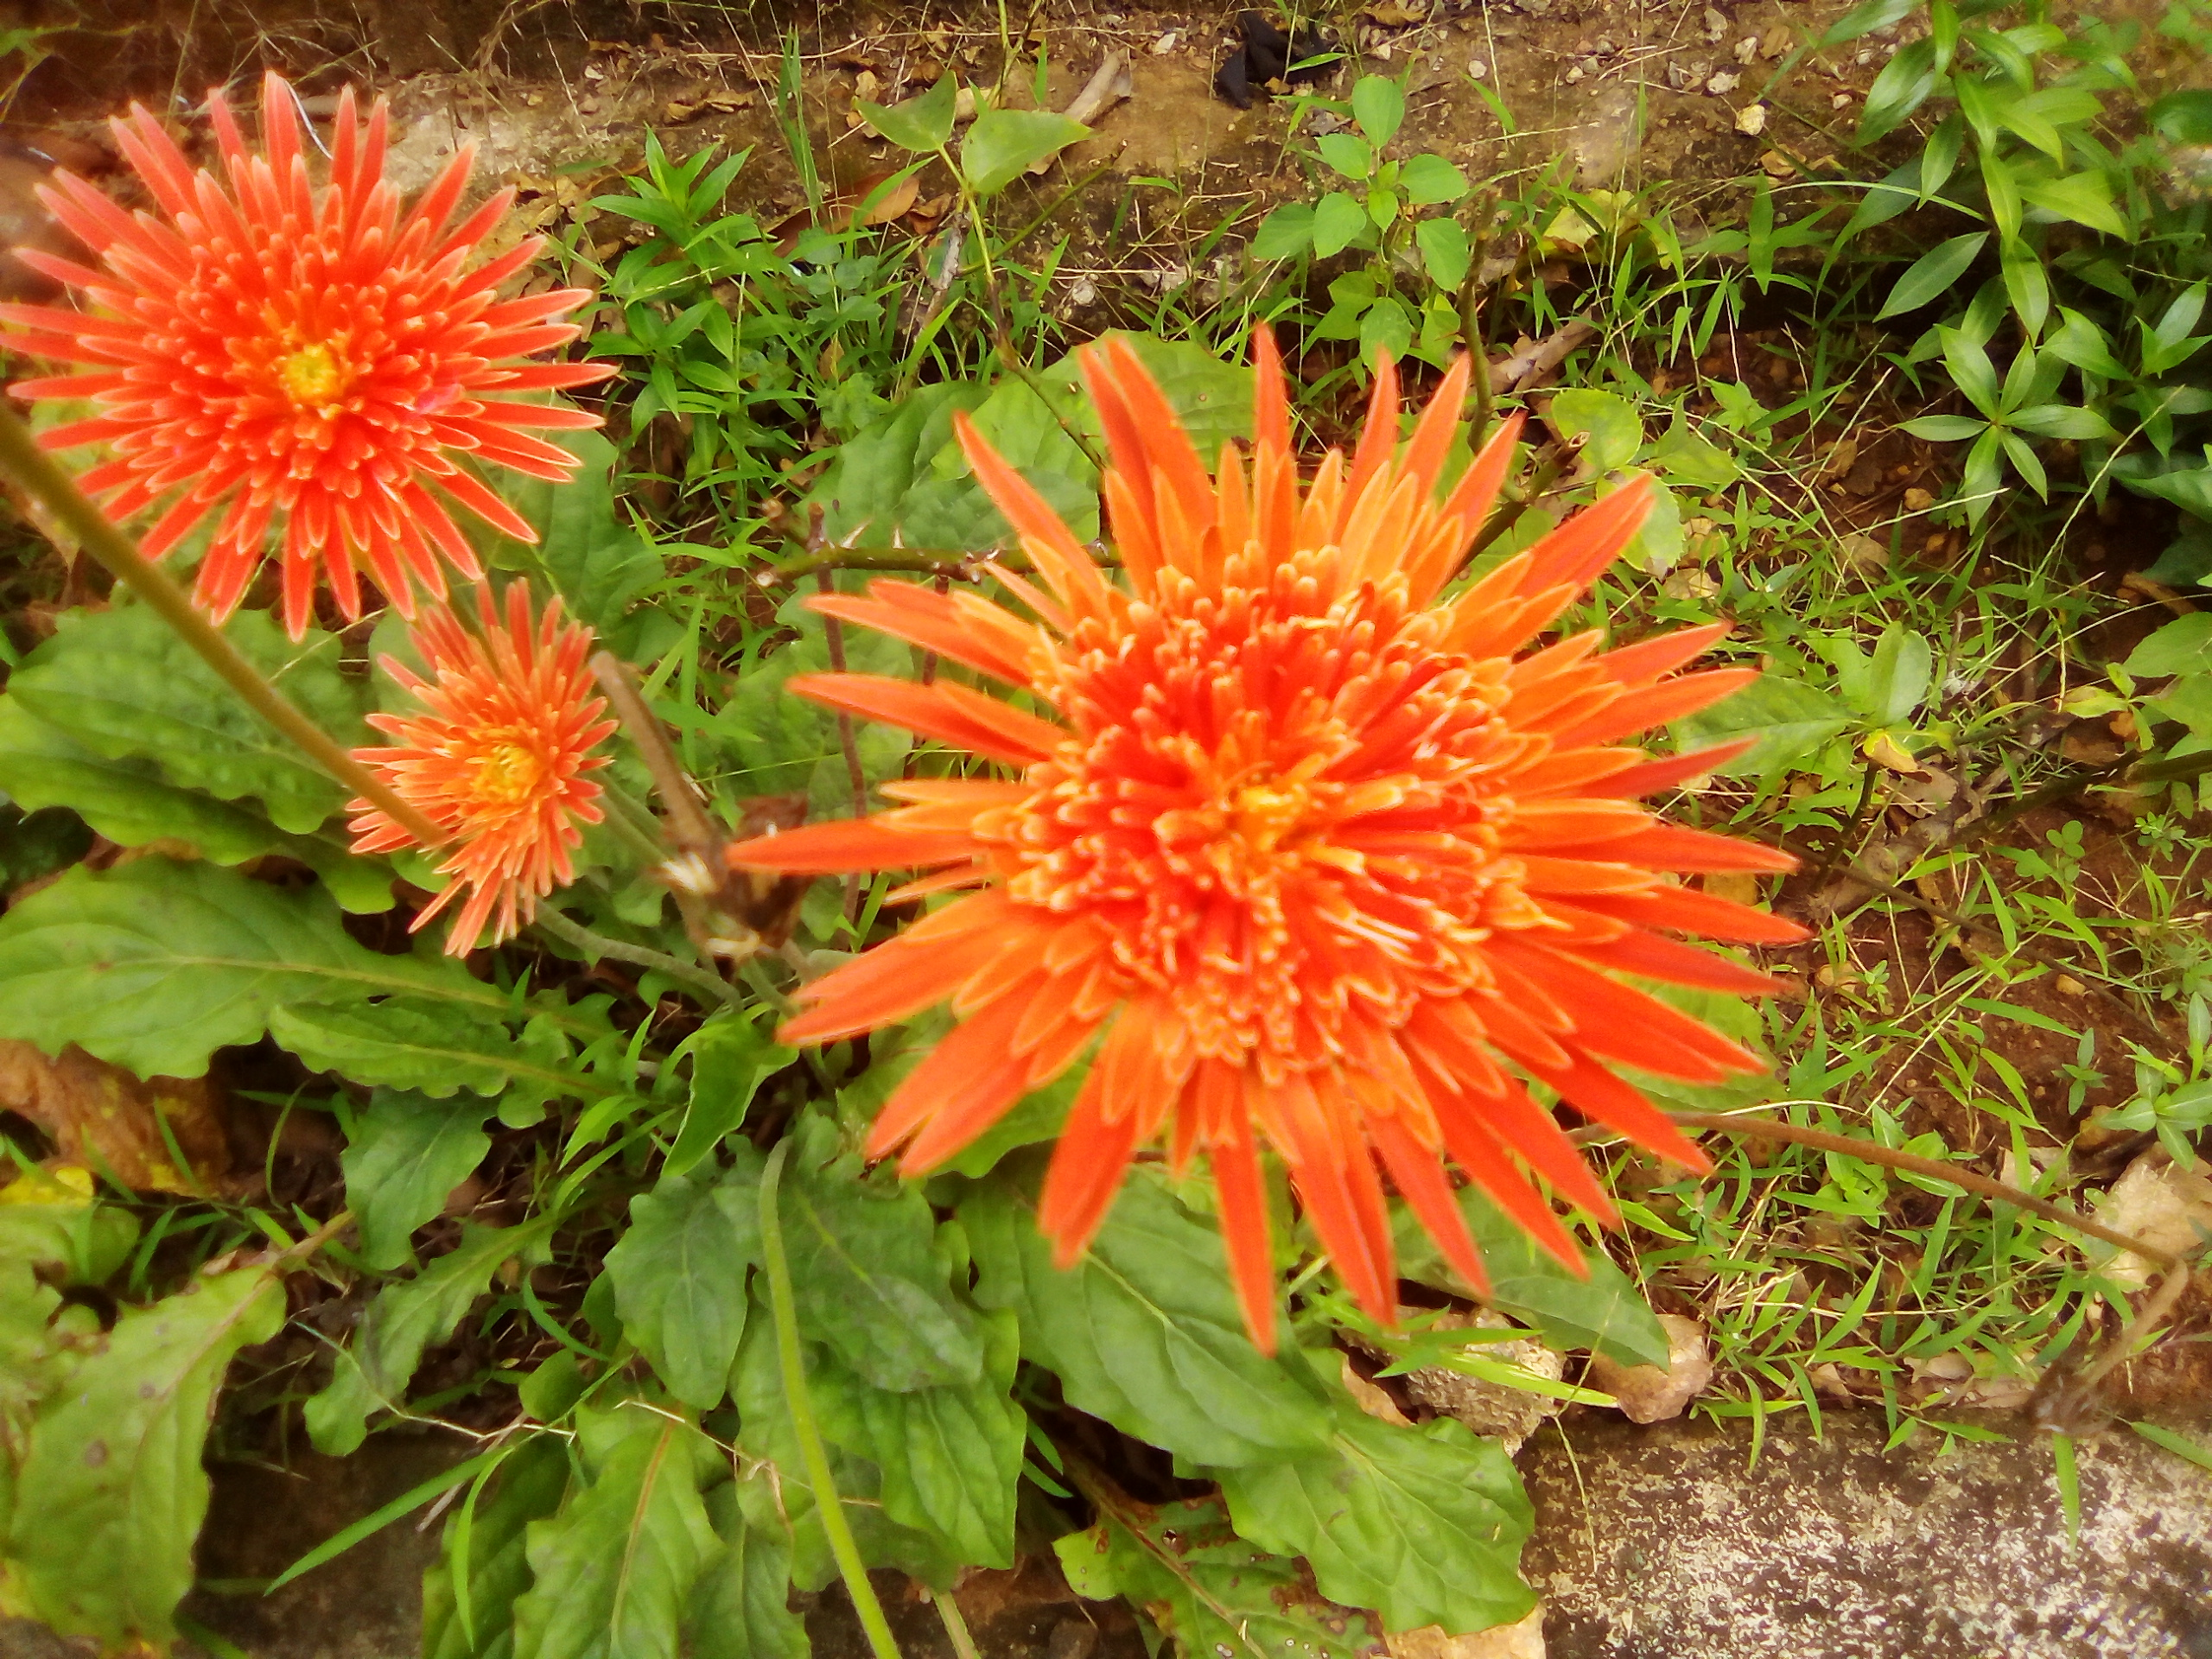ginimala: (754, 369, 1782, 1349), (0, 68, 644, 575), (347, 606, 644, 948)
